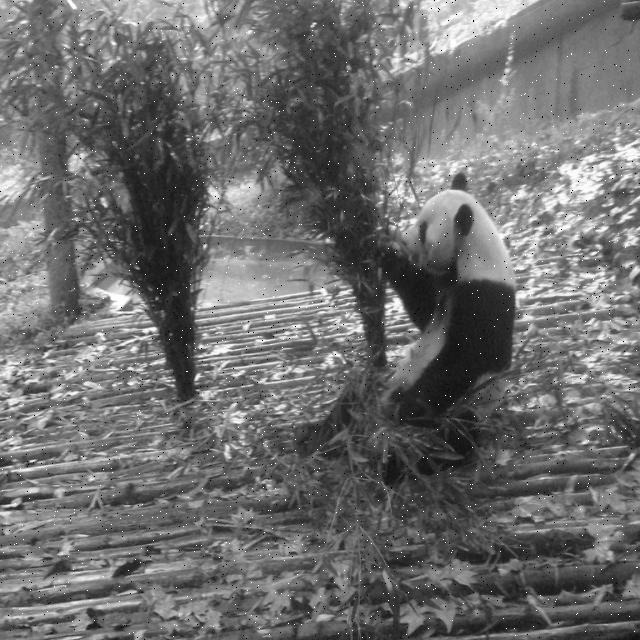panda: (291, 166, 518, 483)
